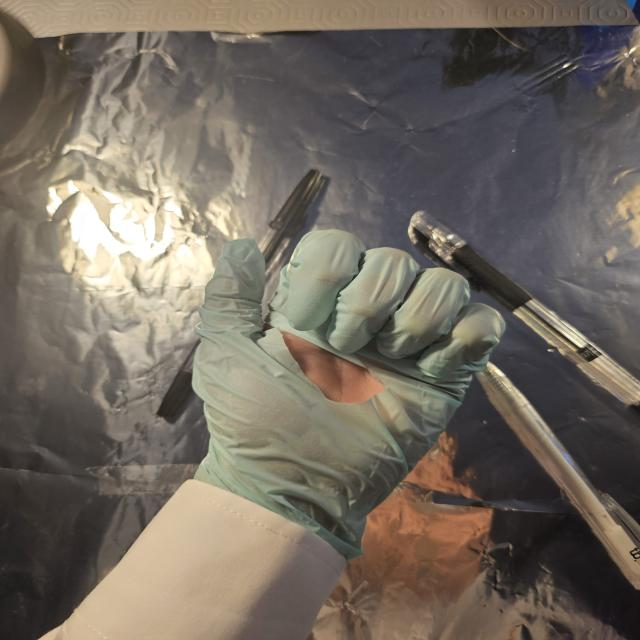gloves_damaged: (178, 222, 508, 560)
